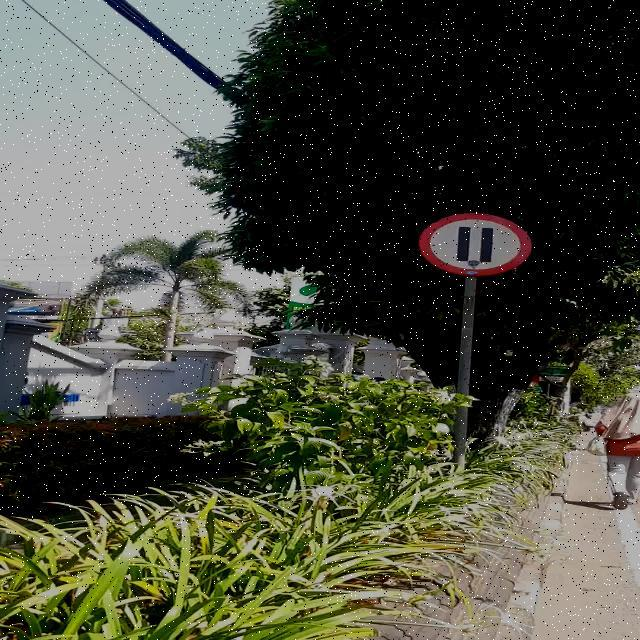Larangan Muatan - 10 ton: (419, 213, 532, 276)
